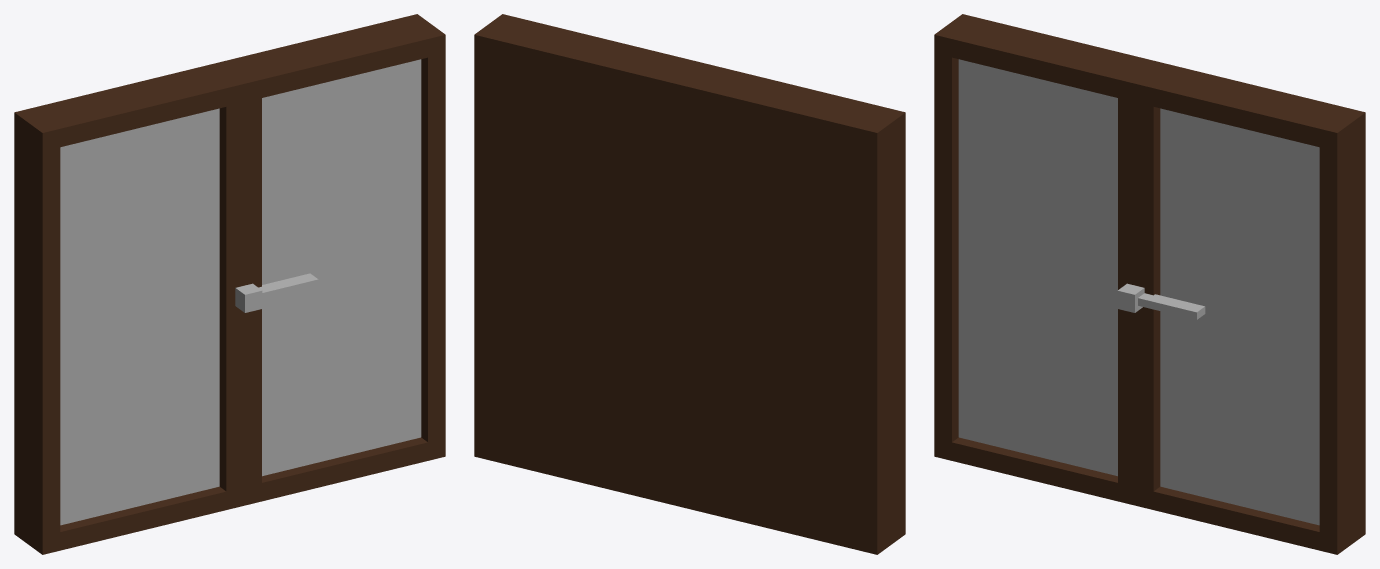
File: CasinoDoor-transformed.glb
3 views of the same model, side by side, from view 1: azimuth 30°, elevation 25°; view 2: azimuth 150°, elevation 25°; view 3: azimuth 330°, elevation 25° (orthographic).
Visible parts, largest first — view 1: CasinoDoor; view 2: CasinoDoor; view 3: CasinoDoor.
Part boxes in pixels (left/top/right/bottom): CasinoDoor: left=14, top=14, right=445, bottom=554; CasinoDoor: left=474, top=14, right=905, bottom=554; CasinoDoor: left=934, top=14, right=1365, bottom=554.
Size of the model in its own units: 2.33 by 2.33 by 0.3802.
